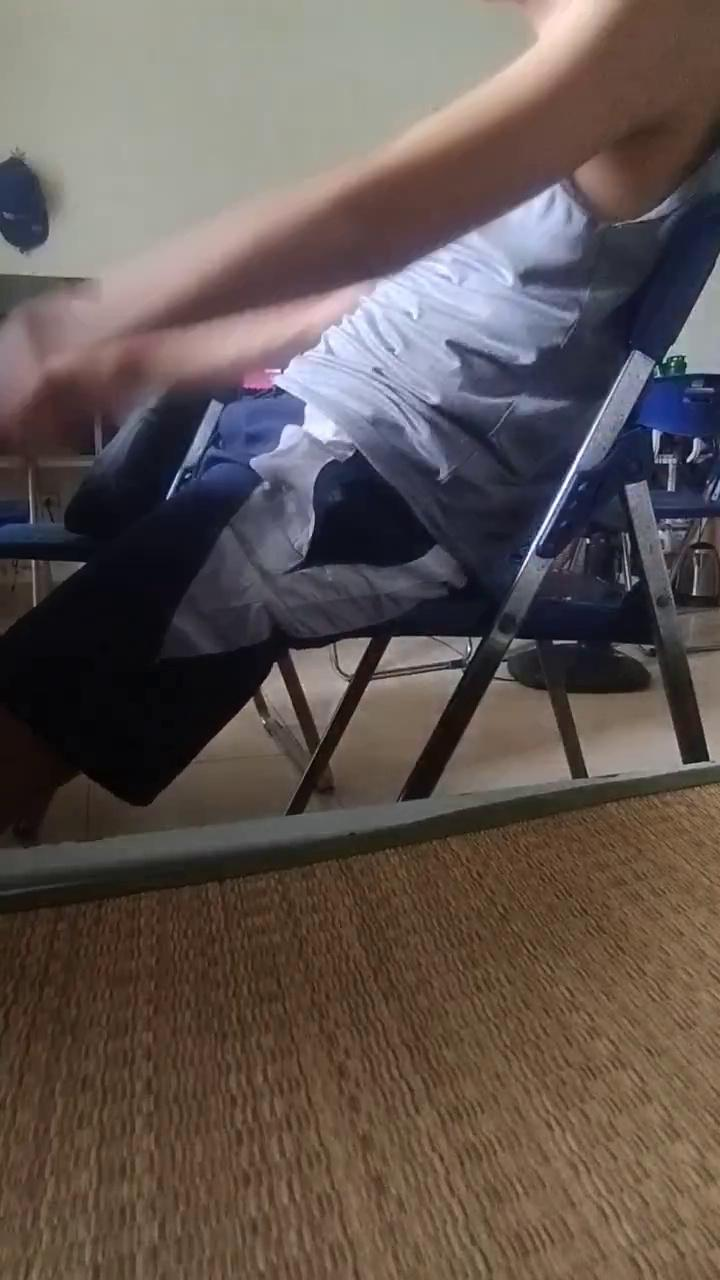BadPosture: (0, 28, 719, 793)
